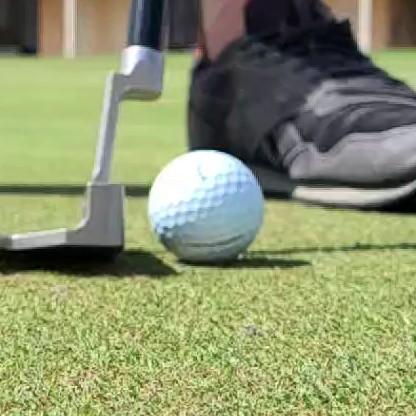golfball: (148, 151, 264, 261)
